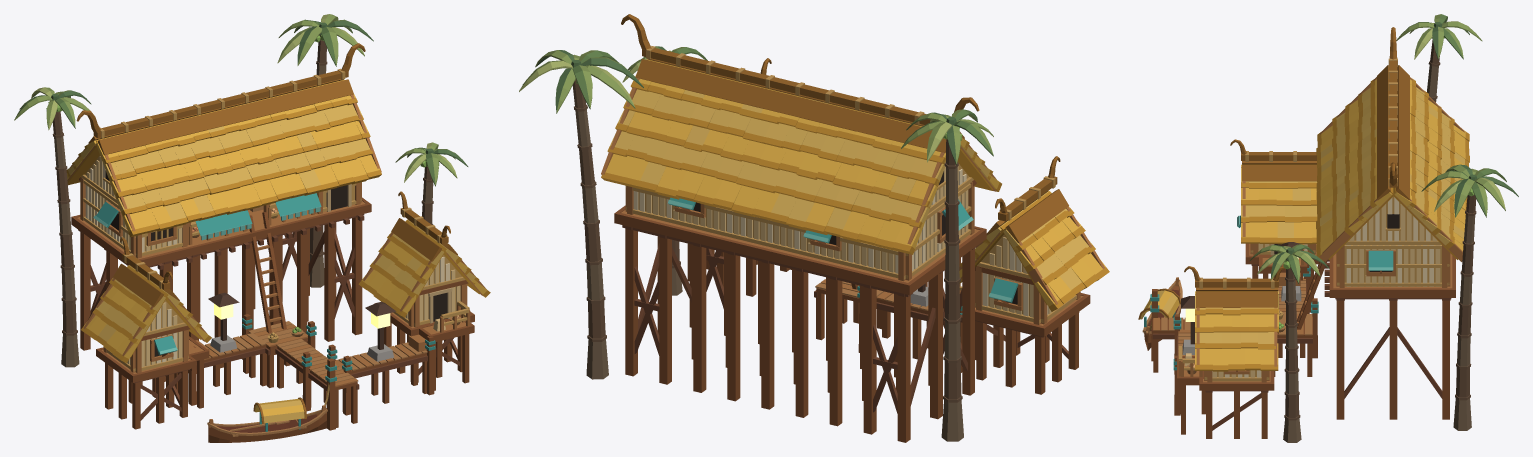
File: stilt_village.glb
The picture shows the model from 3 angles, left to right: view 1: azimuth 30°, elevation 25°; view 2: azimuth 150°, elevation 25°; view 3: azimuth 270°, elevation 25°; orthographic projection. The views are drawn at different scales.
Parts seen in each view (by area): view 1: stilt_village_SV_Teak, stilt_village_SV_ThatchShade, stilt_village_SV_Thatch, stilt_village_SV_ThatchLight, stilt_village_SV_ThatchDark, stilt_village_SV_TeakLight, stilt_village_SV_Wood, stilt_village_SV_BambooShade, stilt_village_SV_WoodLight, stilt_village_SV_Turquoise, stilt_village_SV_Branch, stilt_village_SV_Palm1 (+13 smaller); view 2: stilt_village_SV_Teak, stilt_village_SV_ThatchShade, stilt_village_SV_ThatchLight, stilt_village_SV_Thatch, stilt_village_SV_ThatchDark, stilt_village_SV_BambooShade, stilt_village_SV_Wood, stilt_village_SV_TeakLight, stilt_village_SV_Bark, stilt_village_SV_Bamboo, stilt_village_SV_Branch, stilt_village_SV_Palm1 (+5 smaller); view 3: stilt_village_SV_Teak, stilt_village_SV_ThatchShade, stilt_village_SV_ThatchDark, stilt_village_SV_Thatch, stilt_village_SV_ThatchLight, stilt_village_SV_TeakLight, stilt_village_SV_BambooShade, stilt_village_SV_Bark, stilt_village_SV_Branch, stilt_village_SV_Palm1, stilt_village_SV_Bamboo, stilt_village_SV_Wood (+6 smaller).
Part boxes in pixels (left/top/right/bottom): stilt_village_SV_Teak: left=71, top=177, right=474, bottom=442; stilt_village_SV_ThatchShade: left=66, top=98, right=490, bottom=363; stilt_village_SV_Thatch: left=67, top=79, right=487, bottom=416; stilt_village_SV_ThatchLight: left=67, top=89, right=475, bottom=423; stilt_village_SV_ThatchDark: left=76, top=43, right=457, bottom=423; stilt_village_SV_TeakLight: left=67, top=94, right=486, bottom=427; stilt_village_SV_Wood: left=78, top=214, right=459, bottom=420; stilt_village_SV_BambooShade: left=81, top=68, right=469, bottom=371; stilt_village_SV_WoodLight: left=192, top=205, right=460, bottom=436; stilt_village_SV_Turquoise: left=96, top=193, right=435, bottom=431; stilt_village_SV_Branch: left=50, top=35, right=433, bottom=335; stilt_village_SV_Palm1: left=14, top=14, right=465, bottom=185; stilt_village_SV_Teak: left=614, top=180, right=1090, bottom=442; stilt_village_SV_ThatchShade: left=601, top=81, right=1109, bottom=311; stilt_village_SV_ThatchLight: left=610, top=88, right=1091, bottom=289; stilt_village_SV_Thatch: left=605, top=59, right=1105, bottom=306; stilt_village_SV_ThatchDark: left=621, top=14, right=1068, bottom=242; stilt_village_SV_BambooShade: left=626, top=46, right=1076, bottom=323; stilt_village_SV_Wood: left=622, top=225, right=1068, bottom=413; stilt_village_SV_TeakLight: left=601, top=77, right=1104, bottom=325; stilt_village_SV_Bark: left=575, top=109, right=963, bottom=441; stilt_village_SV_Bamboo: left=646, top=166, right=1051, bottom=317; stilt_village_SV_Branch: left=572, top=79, right=962, bottom=402; stilt_village_SV_Palm1: left=520, top=46, right=993, bottom=164; stilt_village_SV_Teak: left=1144, top=243, right=1455, bottom=438; stilt_village_SV_ThatchShade: left=1195, top=78, right=1469, bottom=371; stilt_village_SV_ThatchDark: left=1138, top=27, right=1409, bottom=319; stilt_village_SV_Thatch: left=1142, top=78, right=1465, bottom=365; stilt_village_SV_ThatchLight: left=1140, top=87, right=1464, bottom=343; stilt_village_SV_TeakLight: left=1146, top=77, right=1464, bottom=382; stilt_village_SV_BambooShade: left=1178, top=58, right=1449, bottom=381; stilt_village_SV_Bark: left=1283, top=65, right=1475, bottom=442; stilt_village_SV_Branch: left=1284, top=39, right=1476, bottom=420; stilt_village_SV_Palm1: left=1249, top=14, right=1506, bottom=283; stilt_village_SV_Bamboo: left=1212, top=204, right=1440, bottom=377; stilt_village_SV_Wood: left=1152, top=259, right=1451, bottom=430.
Size of the model in its own units: 4.22 by 2.9 by 3.71.
